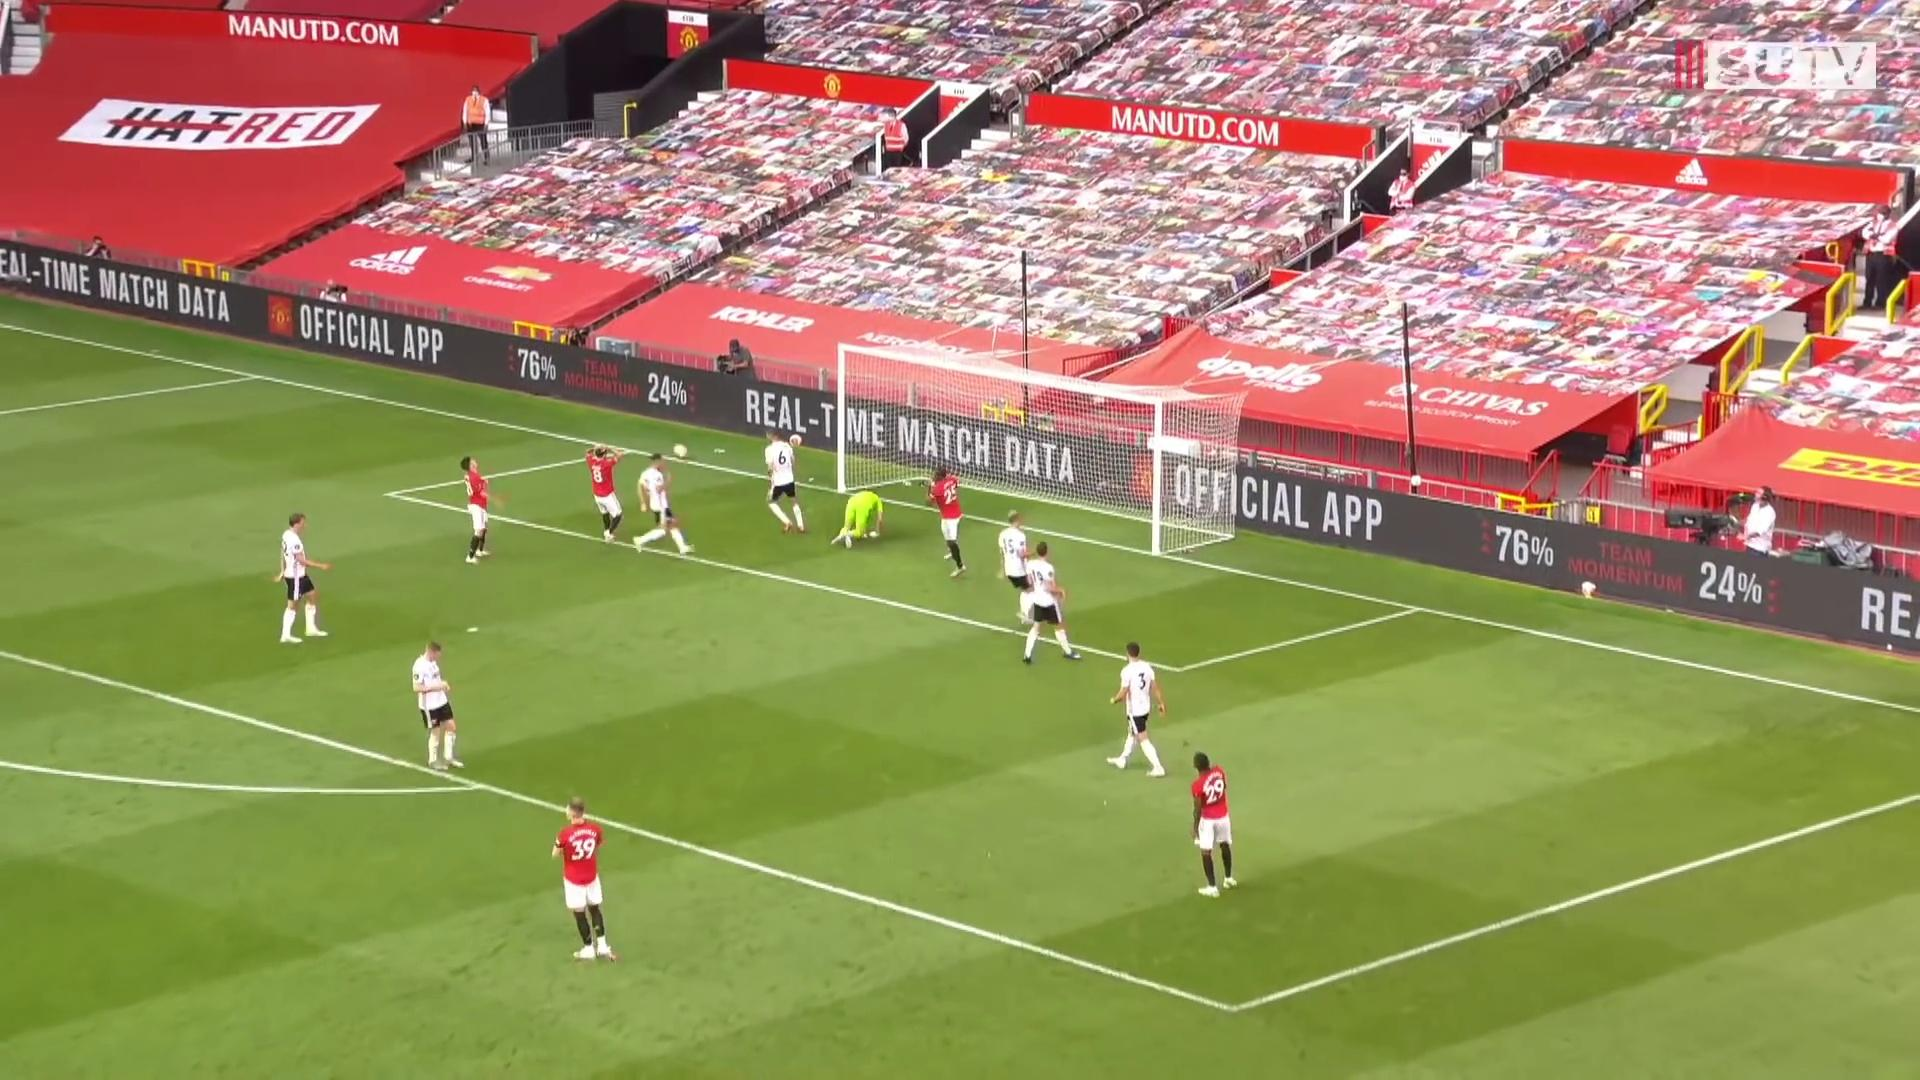ball: (1572, 577, 1598, 604), (669, 440, 692, 462), (786, 430, 807, 451)
goalkeeper: (826, 482, 893, 551)
player: (549, 797, 627, 972), (1013, 537, 1096, 670), (1107, 640, 1176, 782), (1187, 749, 1245, 902), (409, 639, 471, 773), (271, 511, 331, 649), (633, 447, 698, 559), (759, 427, 811, 537), (924, 459, 972, 578), (584, 441, 632, 543), (463, 454, 506, 564), (1000, 512, 1050, 603), (1876, 165, 1906, 249)
